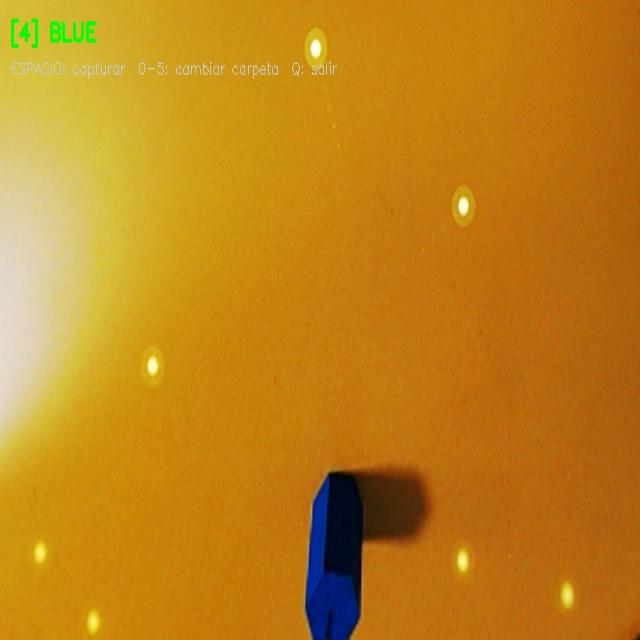blue: (305, 472, 362, 639)
